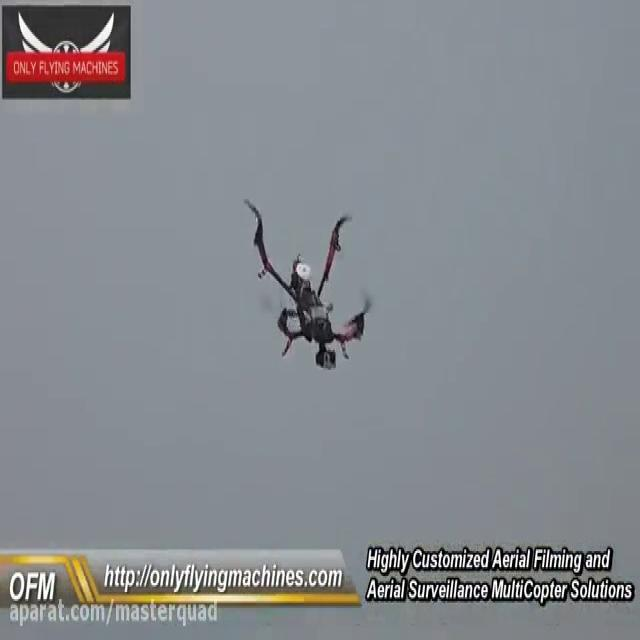drone: (239, 192, 378, 373)
